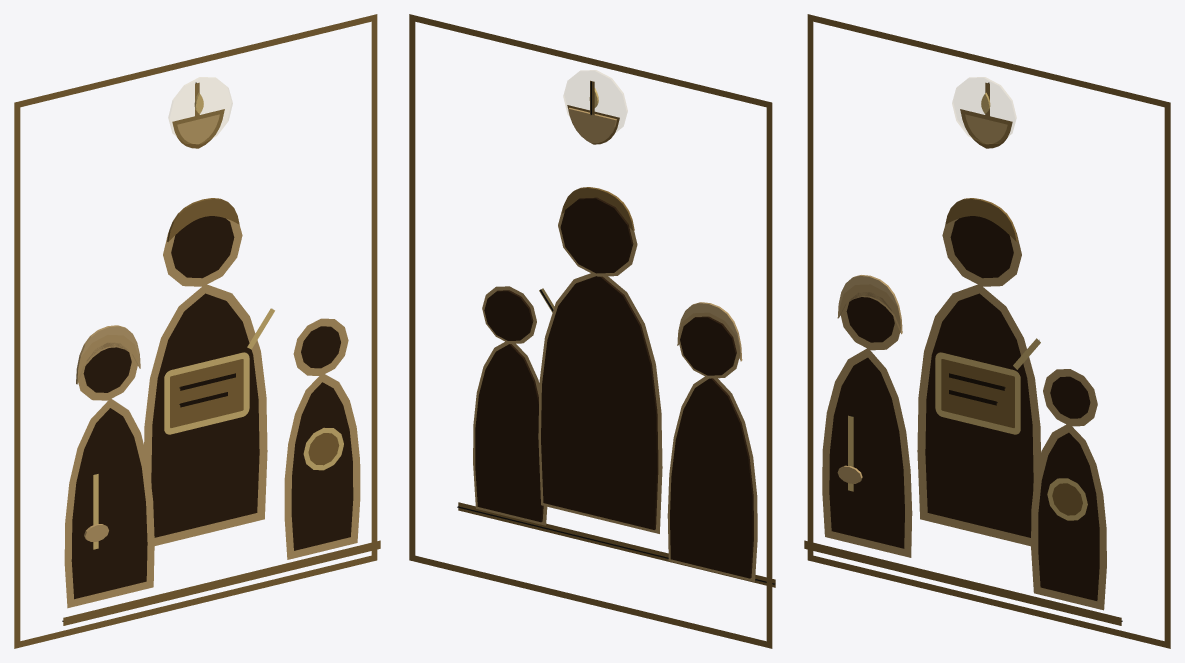
The model's file is npc-uchenik-rebenok.glb.
3 views of the same model, side by side, from view 1: azimuth 30°, elevation 25°; view 2: azimuth 150°, elevation 25°; view 3: azimuth 330°, elevation 25° (orthographic).
Parts seen in each view (by area): view 1: npc-uchenik-rebenok; view 2: npc-uchenik-rebenok; view 3: npc-uchenik-rebenok.
Part boxes in pixels (x1=…): npc-uchenik-rebenok: x1=14, y1=14, x2=380, y2=648; npc-uchenik-rebenok: x1=409, y1=14, x2=775, y2=648; npc-uchenik-rebenok: x1=804, y1=14, x2=1170, y2=648.
Size of the model in its own units: 1.14 by 1.64 by 0.1429.
